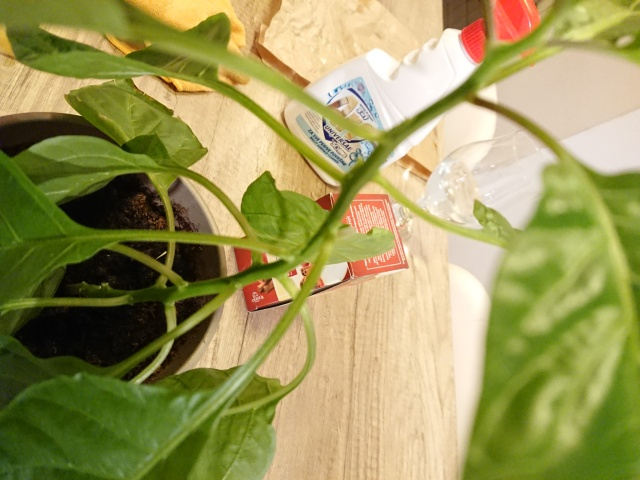Franck Apple Cinnamon Tea 60g: (230, 190, 413, 315)
